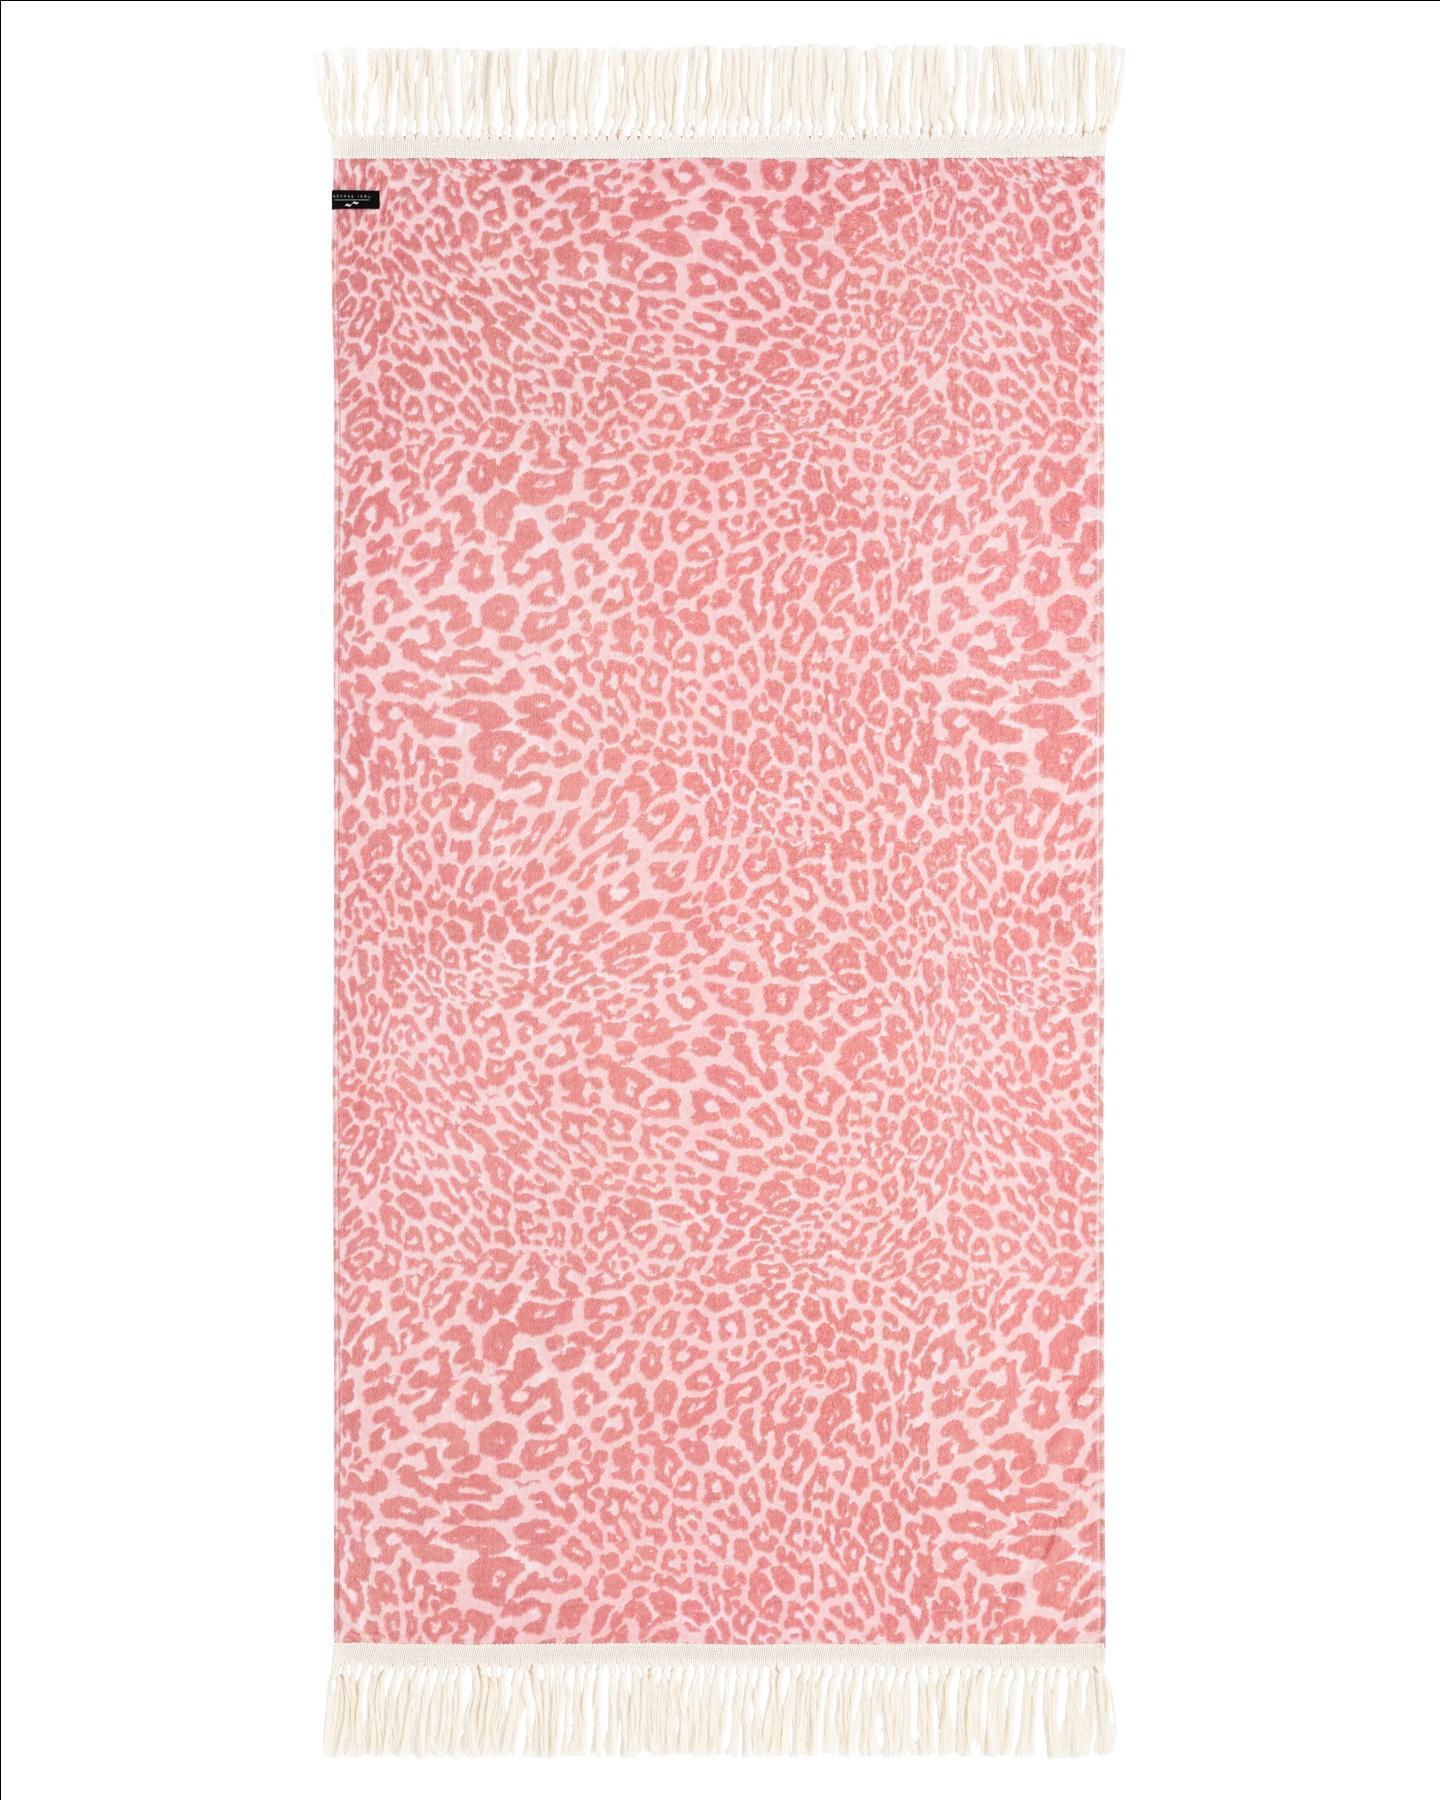towel: (250, 0, 1225, 1800)
